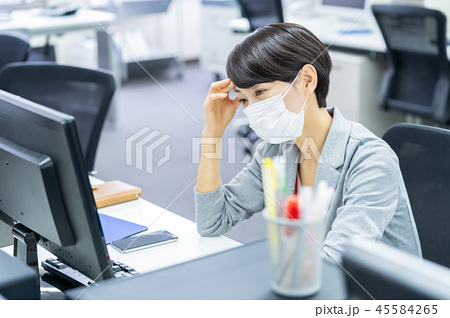mask: (240, 105, 302, 151)
